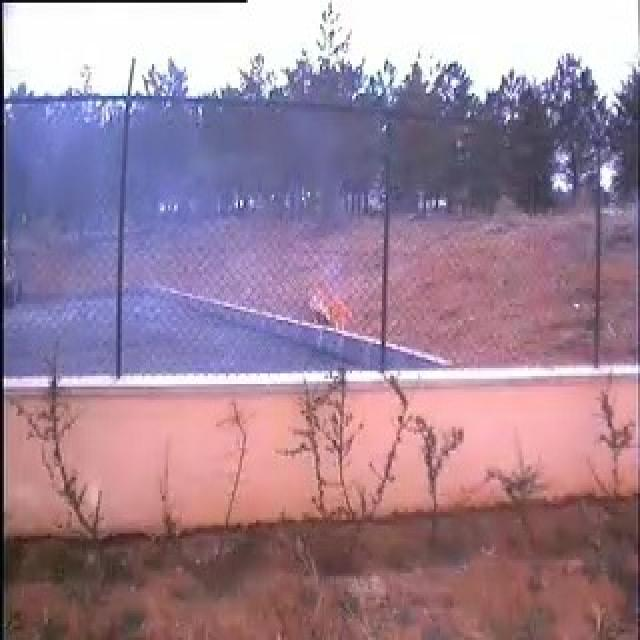smoke: (76, 93, 307, 371)
